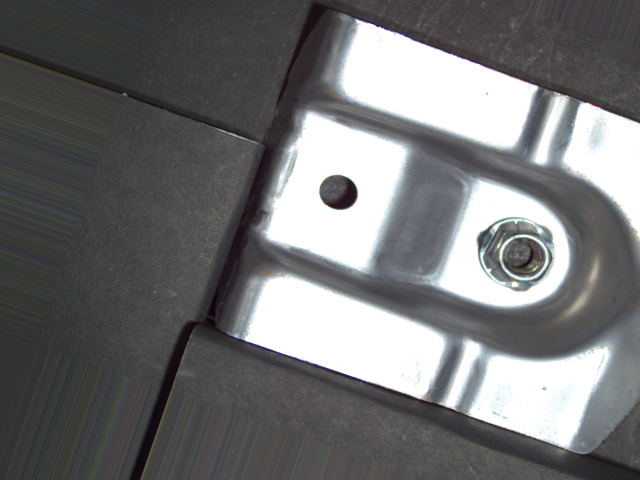good: (472, 214, 560, 293)
